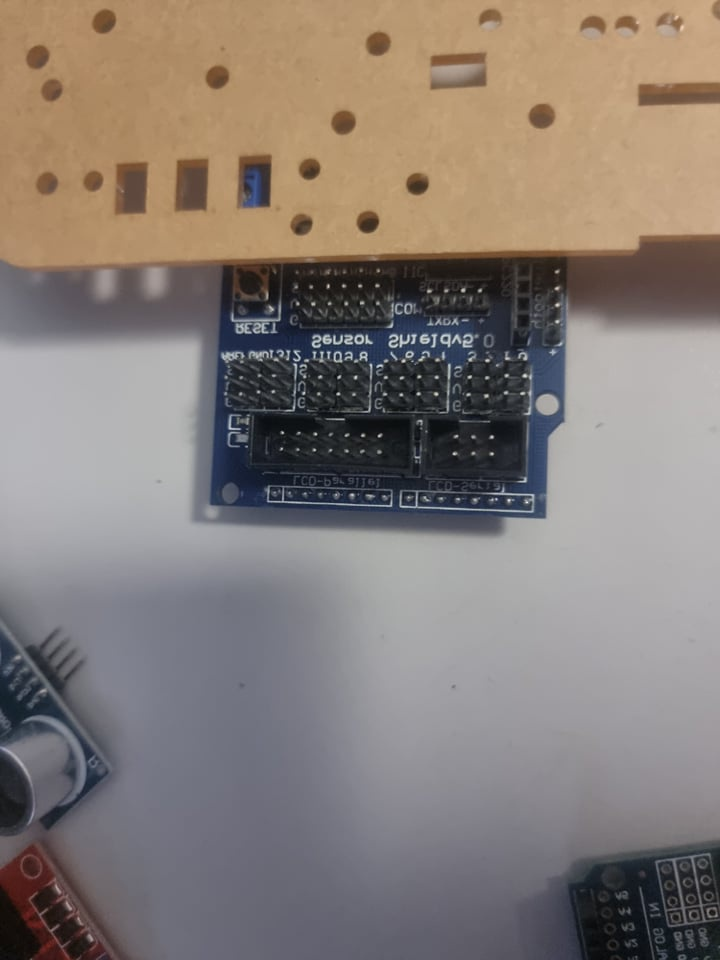5V EXPANSION: (203, 262, 580, 516)
SENSOR: (0, 607, 109, 838)
